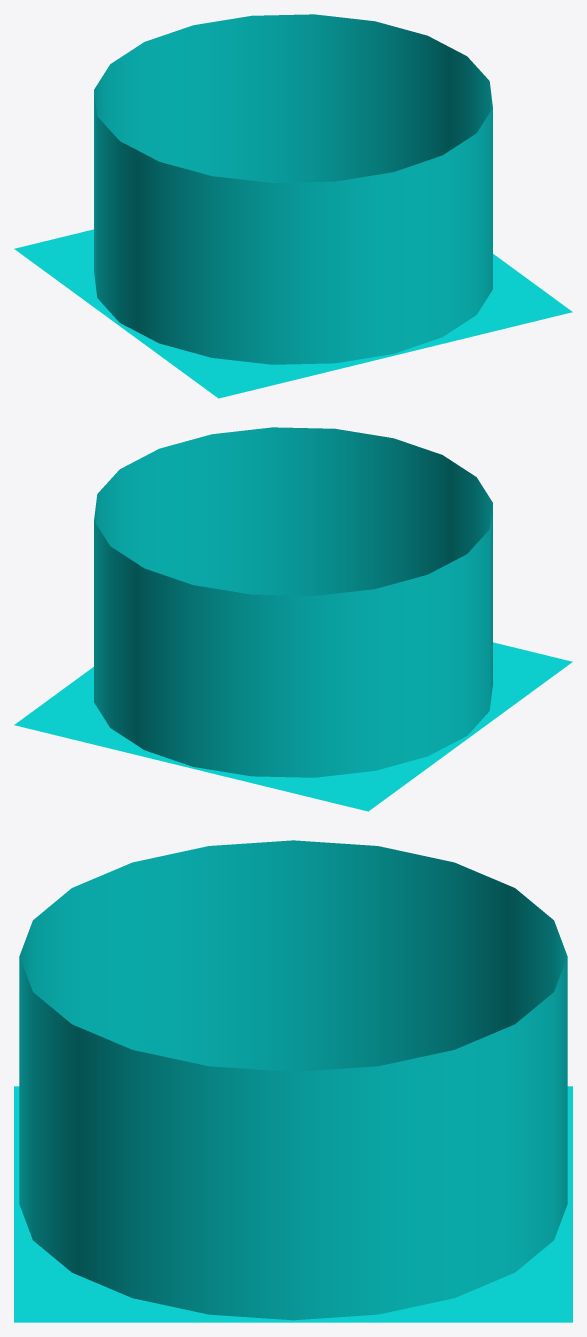
File: SM_Icon2.fbx
The picture shows the model from 3 angles, top to bottom: view 1: azimuth 30°, elevation 25°; view 2: azimuth 150°, elevation 25°; view 3: azimuth 270°, elevation 25°; orthographic projection. The views are drawn at different scales.
Visible parts, largest first — view 1: Icon2; view 2: Icon2; view 3: Icon2.
Part boxes in pixels (<box>): Icon2: <box>14,14,572,398</box>; Icon2: <box>14,427,572,811</box>; Icon2: <box>14,840,572,1322</box>.
Bounding box in the file's own units: 102 × 50 × 102.
